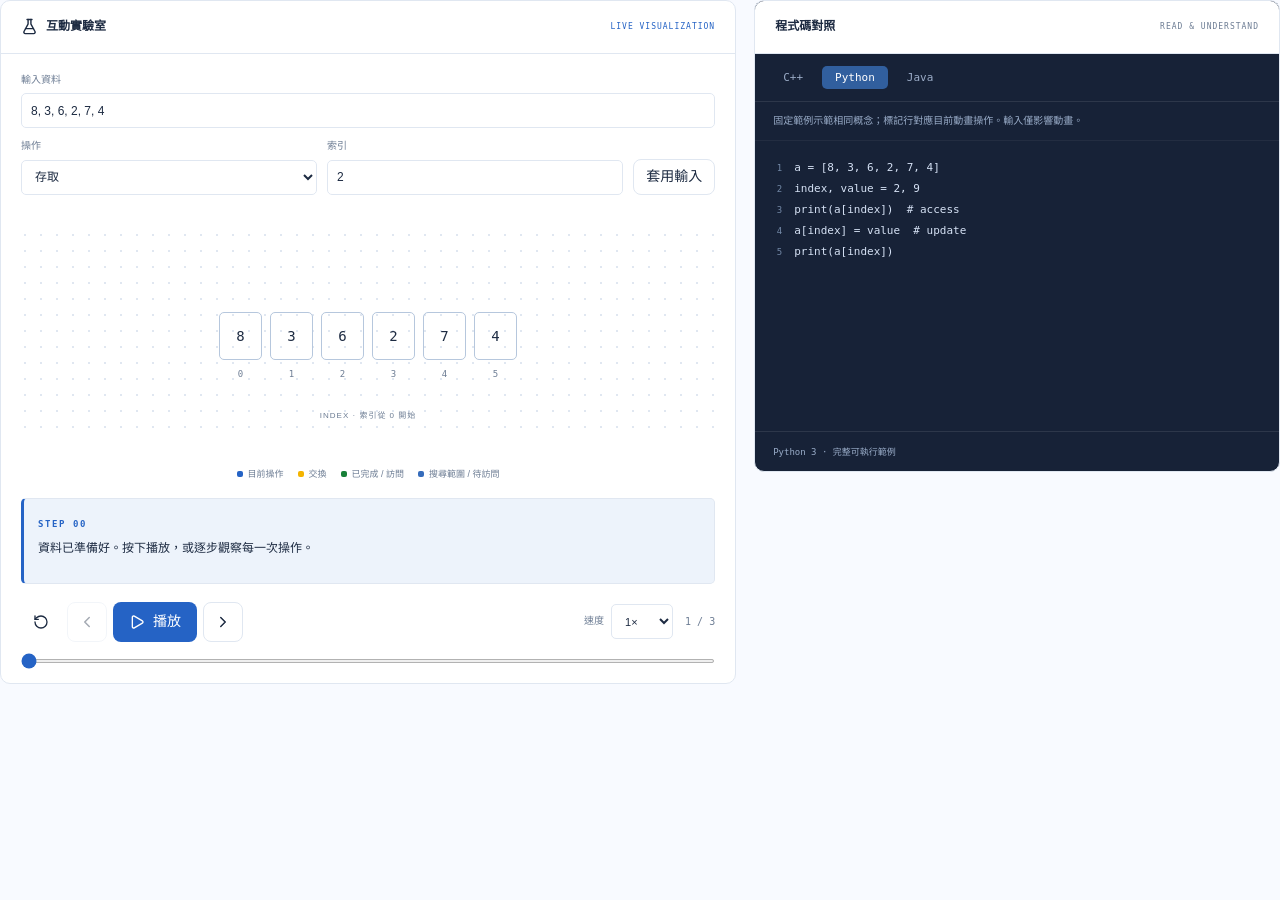
Test: 共用播放器 DOM 整合（不等同瀏覽器 E2E） › 錯誤輸入不覆蓋原有步驟，且可修正後繼續
Click the button named "下一步" at (223, 622), box left=203, top=602, right=243, bottom=642
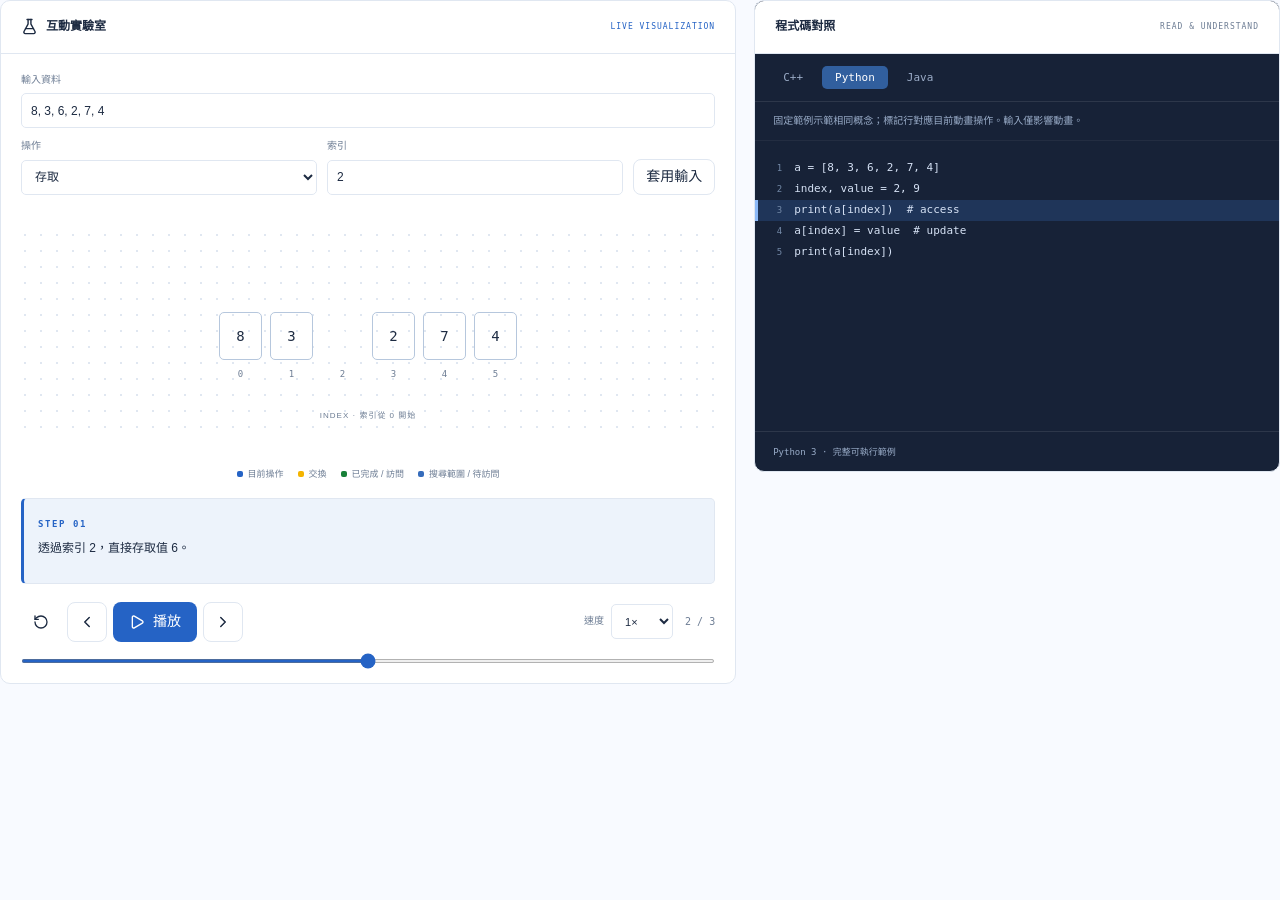
Replace the text in the field labelled "輸入資料" with "oops" at (368, 111), box left=21, top=93, right=715, bottom=128
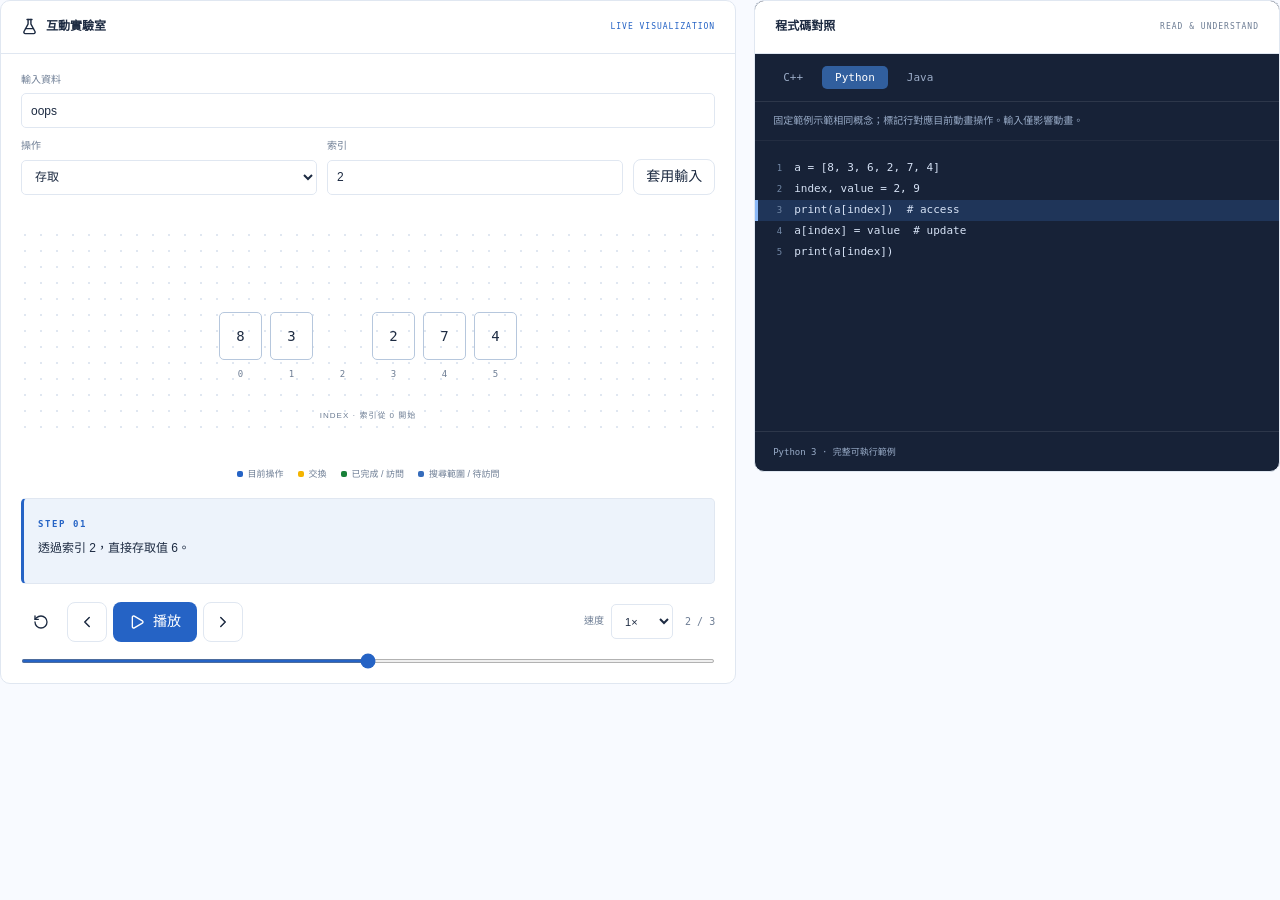
Click the button "套用輸入" at (674, 177), box left=633, top=159, right=715, bottom=195
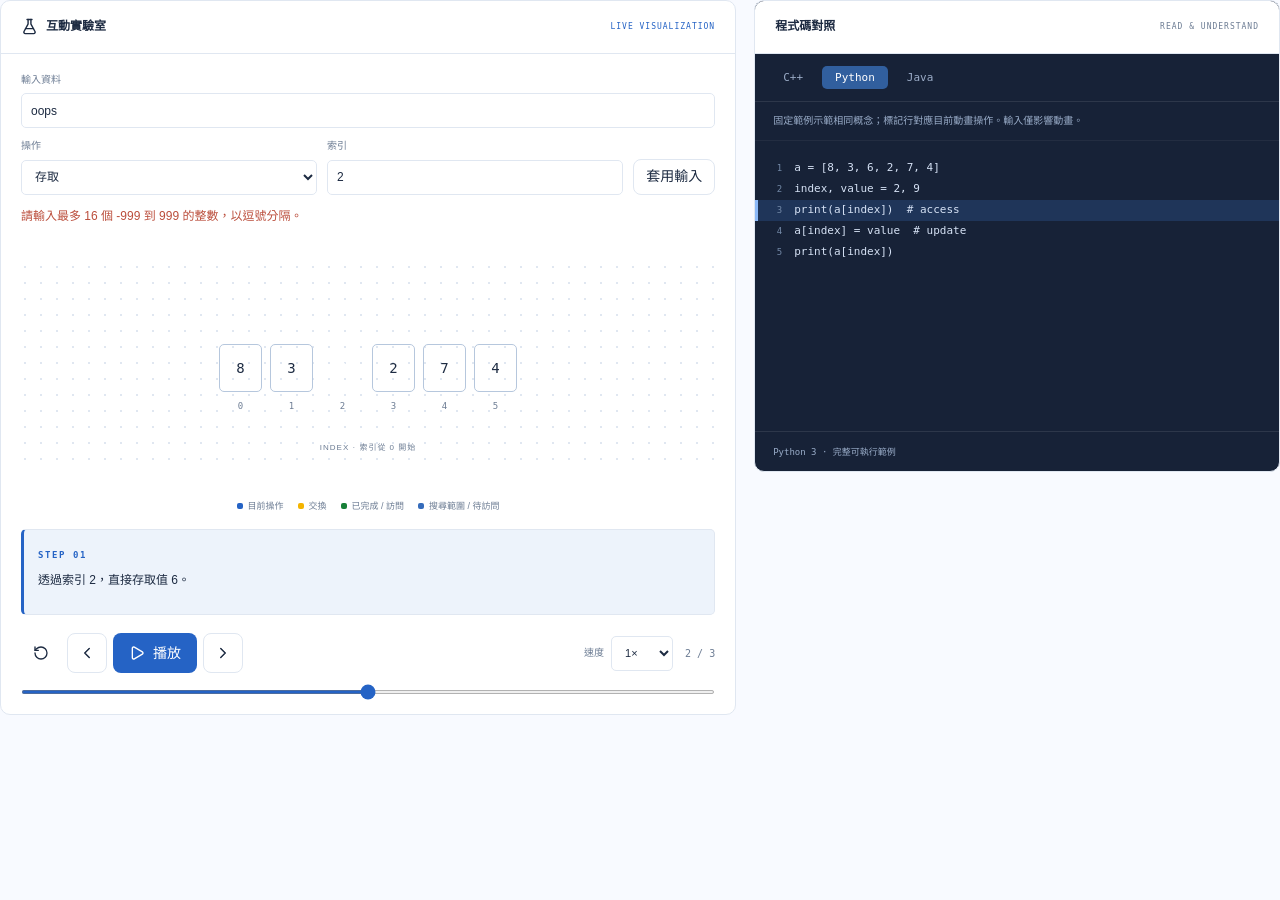
Expected: the slider named "播放進度" holds "1", left=21, top=690, right=715, bottom=694
Expected: the message shows "整數", left=21, top=209, right=302, bottom=223
Replace the text in the field labelled "輸入資料" with "1,2,3" at (368, 111), box left=21, top=93, right=715, bottom=128
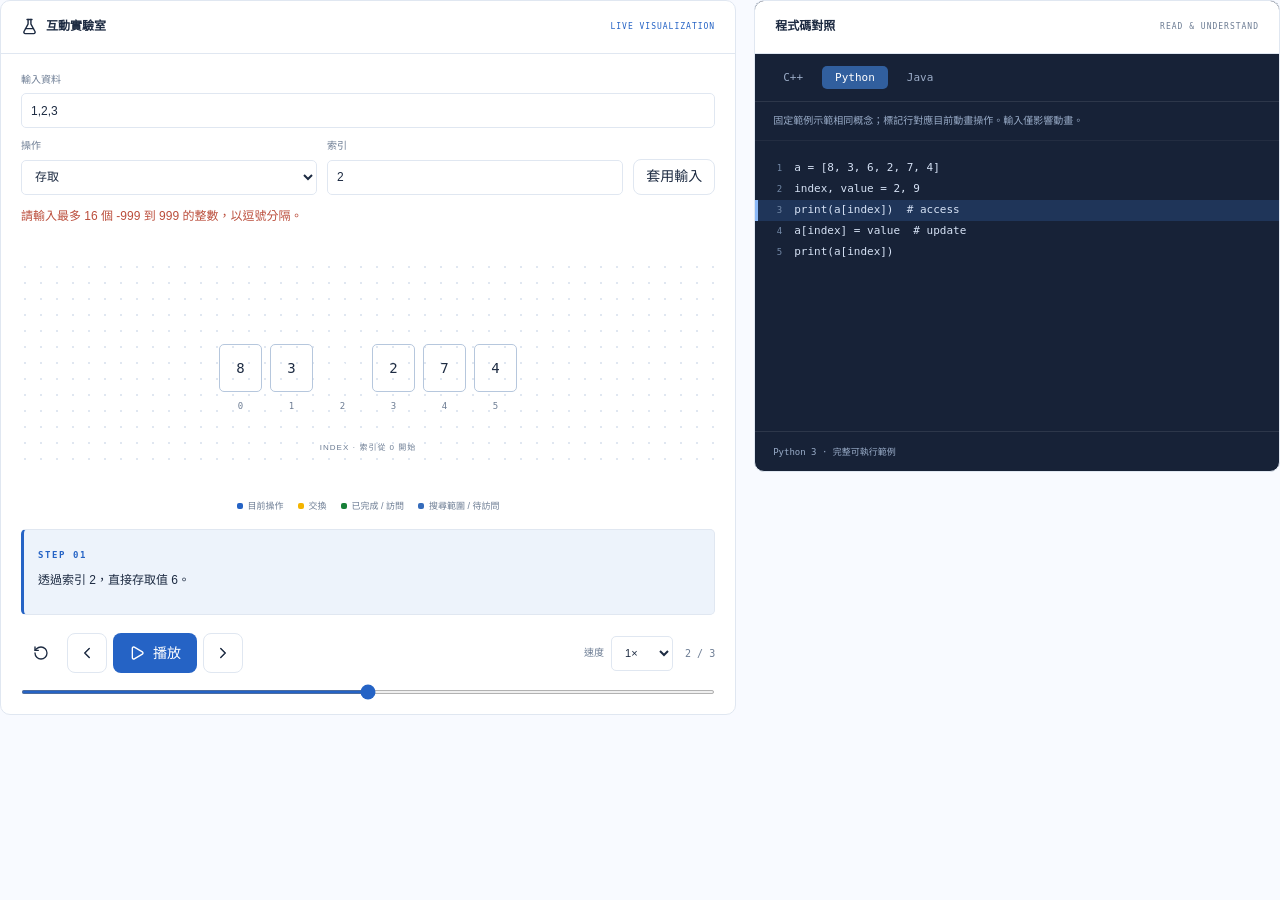
Click the button "套用輸入" at (674, 177), box left=633, top=159, right=715, bottom=195
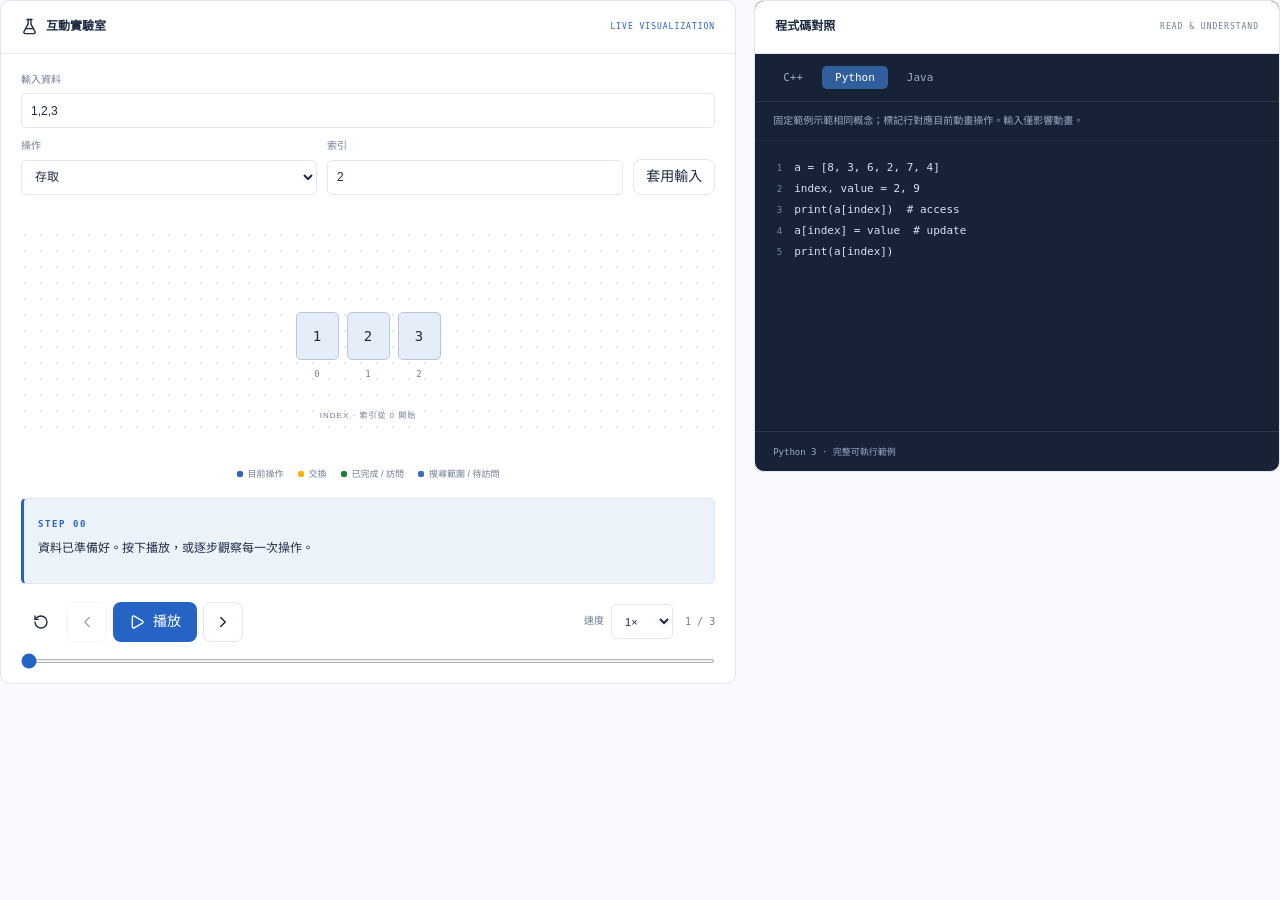
Expected: the message "請輸入最多 16 個 -999 到 999 的整數，以逗號分隔。" is gone
Expected: the slider named "播放進度" holds "0", left=21, top=659, right=715, bottom=663
